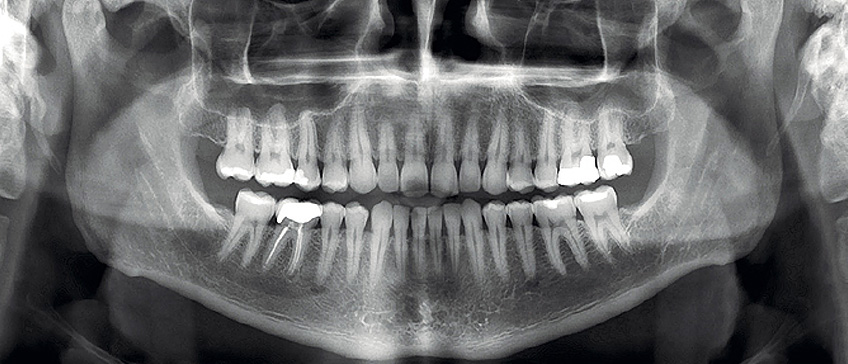canine: (479, 95, 513, 199), (458, 189, 490, 288), (348, 100, 381, 193), (365, 196, 396, 287)
incisor: (428, 102, 464, 199), (398, 106, 432, 201), (455, 106, 489, 195), (373, 103, 404, 197), (439, 193, 468, 276), (387, 195, 412, 276), (408, 200, 430, 276), (426, 199, 447, 278)
molar: (573, 182, 641, 269), (213, 182, 278, 272), (265, 189, 324, 283), (531, 191, 589, 280), (209, 93, 263, 183), (251, 94, 299, 191), (557, 95, 603, 192), (595, 102, 639, 180)
premolar: (317, 93, 355, 197), (528, 98, 566, 195), (310, 195, 352, 281), (478, 193, 516, 283), (337, 195, 372, 291), (290, 99, 324, 195), (504, 196, 541, 282), (506, 102, 538, 194)
